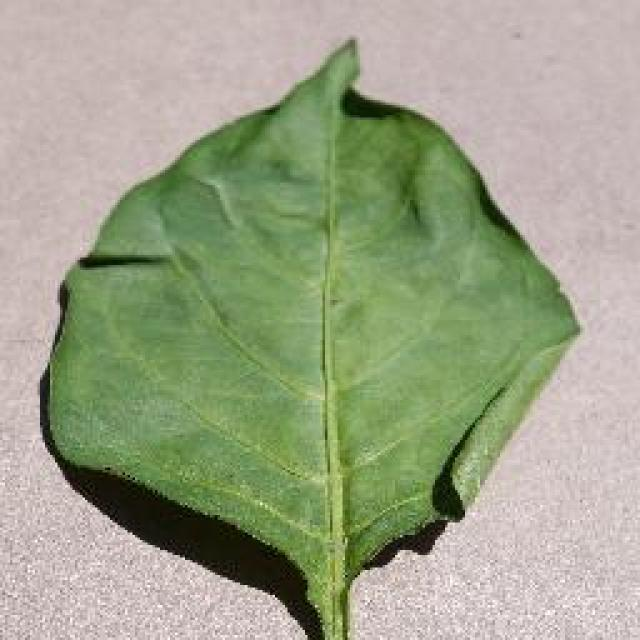Leaf: (78, 61, 531, 413)
